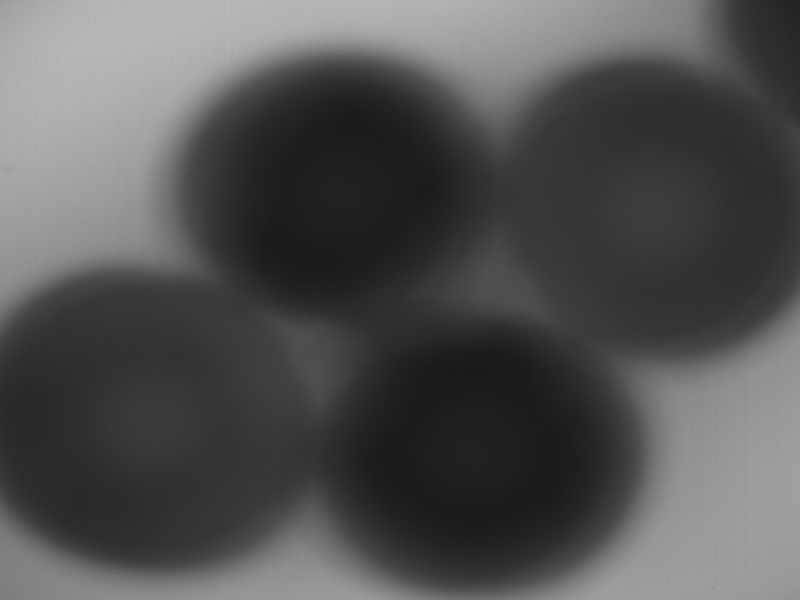bead: (1, 267, 318, 570), (314, 303, 643, 592), (497, 55, 800, 358), (186, 58, 504, 323)
